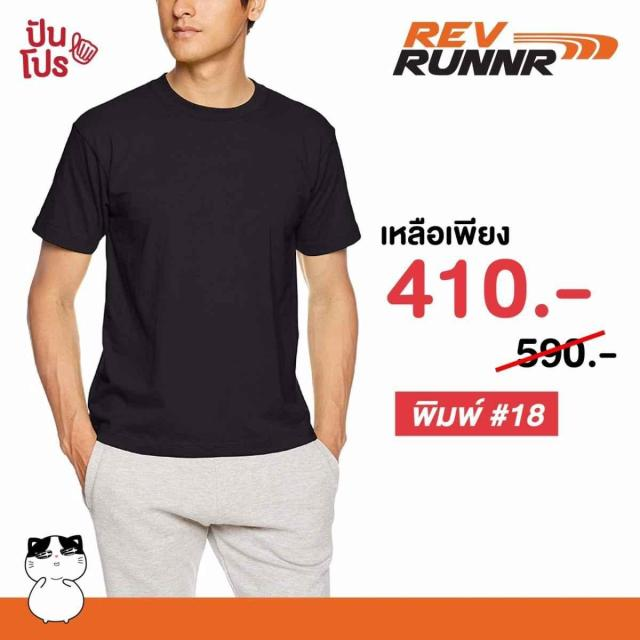Tshirt: (35, 75, 356, 457)
